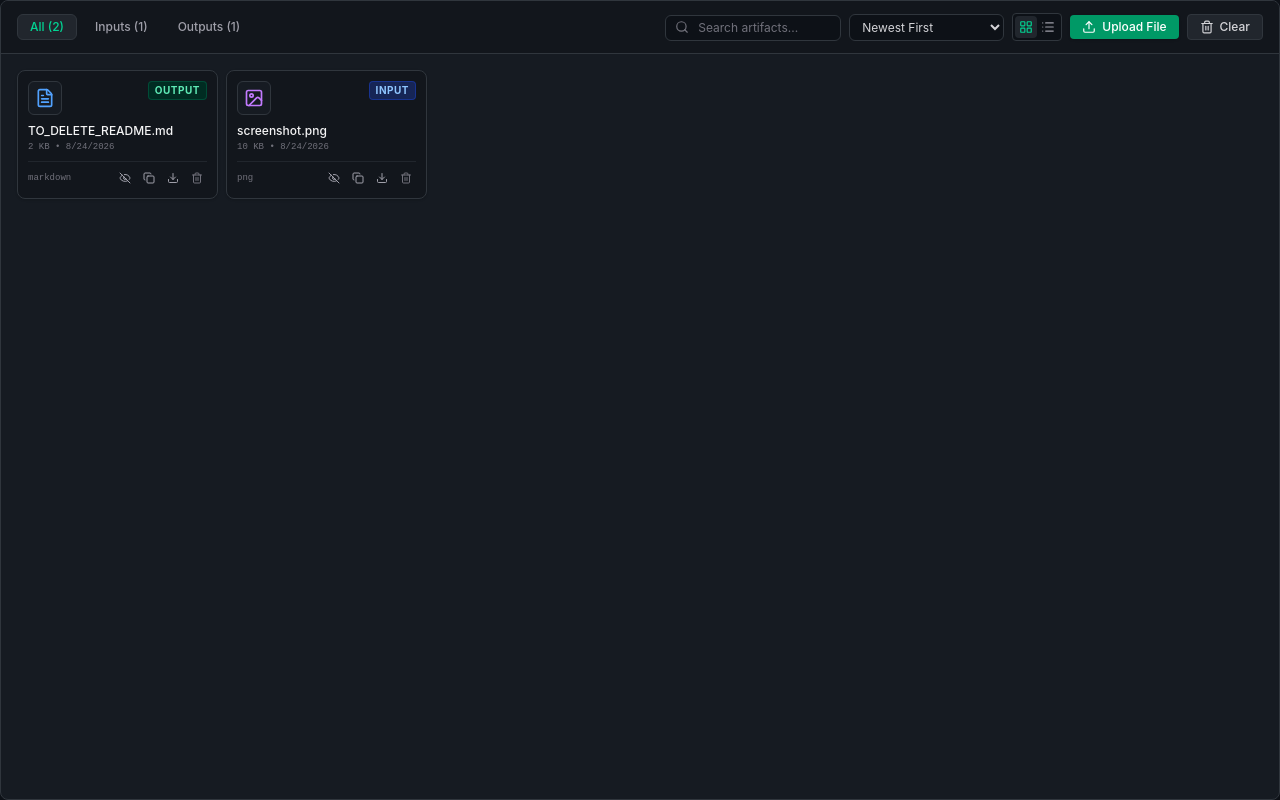
Test: ArtifactGallery Component › supports hiding and unhiding an artifact card
expect the text "screenshot.png" is shown: met, box [237,123,327,138]
Hide screenshot.png
Click the button titled "Hide artifact" below "10 KB". click: [334, 178]
box: [324,168,344,188]
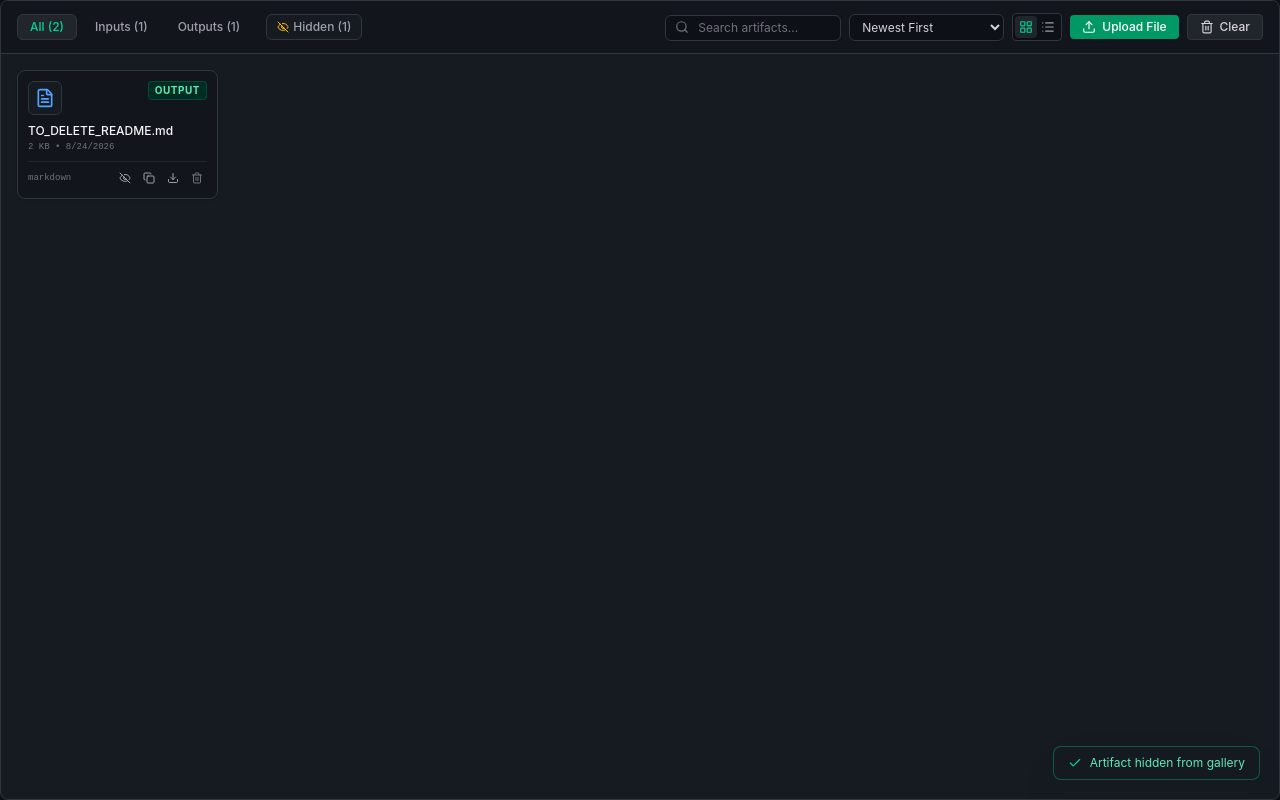
expect the text "screenshot.png" is gone: met
expect the text "Hidden (1)" is shown: met, box [293,19,351,35]
Toggle show hidden
Click the button with test id "filter-artifacts-hidden". click: [314, 27]
box: [266,14,362,40]
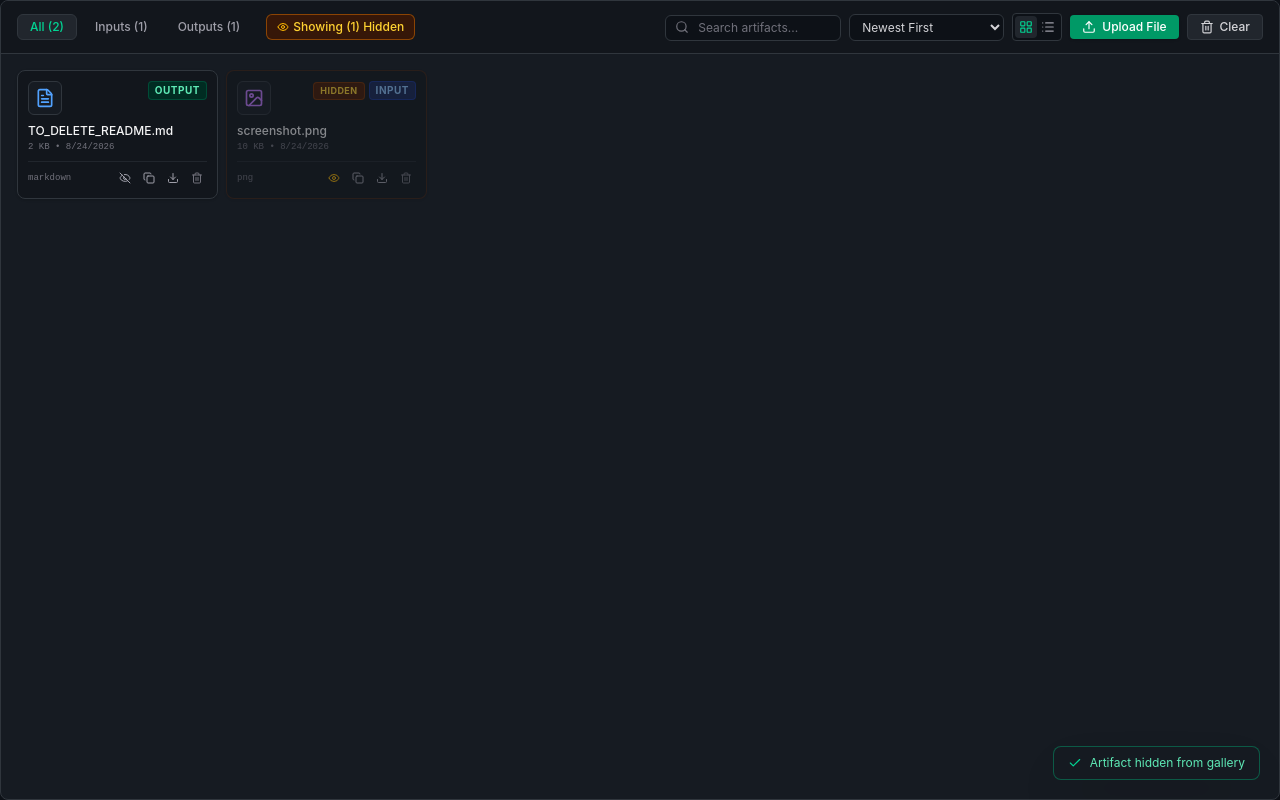
expect the text "screenshot.png" is shown: met, box [237,123,327,138]
expect the text "Showing (1) Hidden" is shown: met, box [293,19,404,35]
